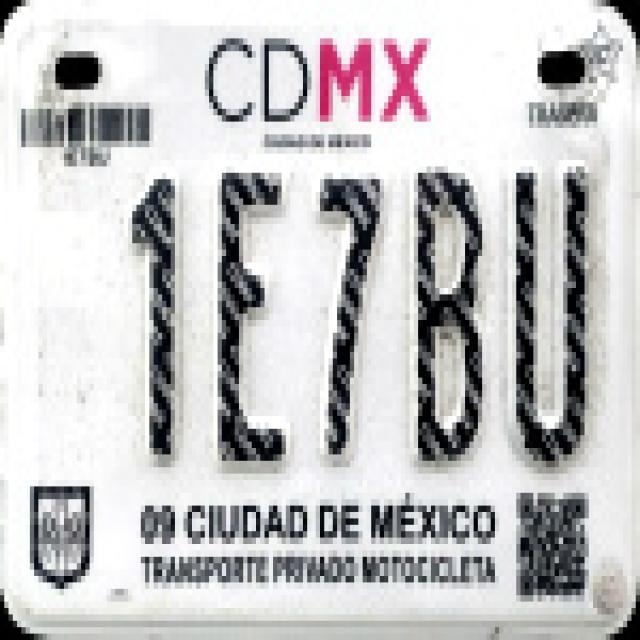placa: (98, 154, 605, 482)
